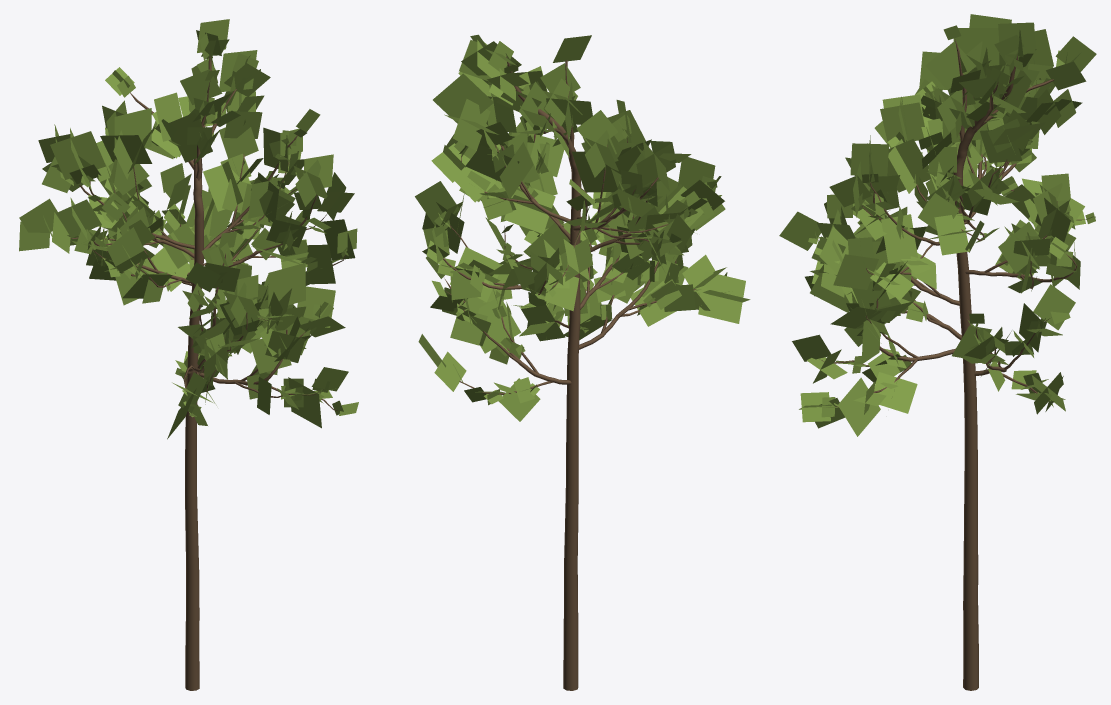
Rendered from meadow-aspen-a.glb.
The picture shows the model from 3 angles, left to right: view 1: azimuth 30°, elevation 25°; view 2: azimuth 150°, elevation 25°; view 3: azimuth 270°, elevation 25°; orthographic projection. The views are drawn at different scales.
Visible parts, largest first — view 1: leaves, bark; view 2: leaves, bark; view 3: leaves, bark.
Boxes of the visible parts, x1=… form: leaves: x1=19, y1=19, x2=358, y2=439; bark: x1=70, y1=56, x2=345, y2=690; leaves: x1=415, y1=34, x2=750, y2=421; bark: x1=443, y1=56, x2=696, y2=690; leaves: x1=779, y1=14, x2=1096, y2=436; bark: x1=817, y1=39, x2=1084, y2=690.
Bounding box in the file's own units: 32.08 × 68.42 × 28.59.
